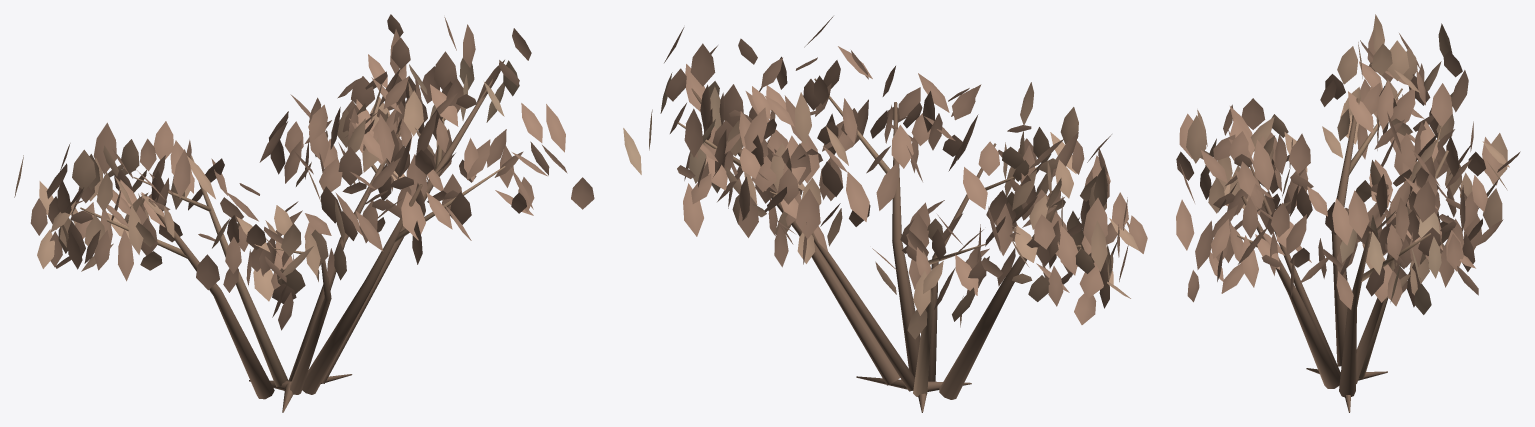
The model's file is bush_3d_02_copper.glb.
3 renders of one model, left to right at view 1: azimuth 30°, elevation 25°; view 2: azimuth 150°, elevation 25°; view 3: azimuth 270°, elevation 25°, orthographic. The views are drawn at different scales.
Parts seen in each view (by area): view 1: bush_3d_02_copper_foliage, bush_3d_02_copper_wood; view 2: bush_3d_02_copper_foliage, bush_3d_02_copper_wood; view 3: bush_3d_02_copper_foliage, bush_3d_02_copper_wood.
Boxes of the visible parts, x1,y1,x2,y2 form: bush_3d_02_copper_foliage: [14, 14, 594, 330]; bush_3d_02_copper_wood: [80, 70, 505, 412]; bush_3d_02_copper_foliage: [623, 16, 1147, 339]; bush_3d_02_copper_wood: [678, 78, 1081, 412]; bush_3d_02_copper_foliage: [1176, 14, 1520, 314]; bush_3d_02_copper_wood: [1237, 88, 1448, 412].
Bounding box in the file's own units: 2.62 × 1.6 × 1.64.
